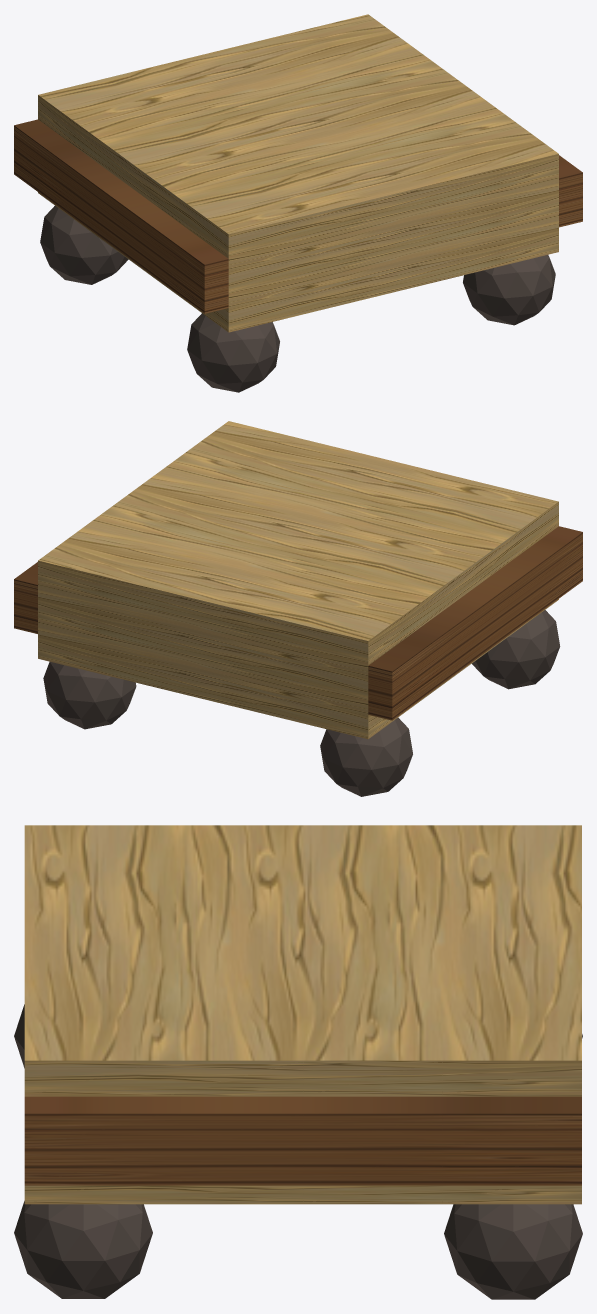
File: movingPlatform.fbx
3 views of the same model, one above another, from view 1: azimuth 30°, elevation 25°; view 2: azimuth 150°, elevation 25°; view 3: azimuth 270°, elevation 25° (orthographic). The views are drawn at different scales.
Parts seen in each view (by area): view 1: Cube, Cube.001; view 2: Cube, Cube.001; view 3: Cube, Cube.001.
Boxes of the visible parts, bbox=[...] form: Cube: bbox=[14, 14, 582, 332]; Cube.001: bbox=[40, 206, 555, 392]; Cube: bbox=[14, 421, 582, 739]; Cube.001: bbox=[43, 610, 560, 796]; Cube: bbox=[24, 825, 581, 1204]; Cube.001: bbox=[14, 1004, 582, 1299].
Size of the model in its own units: 229 by 101 by 204.
